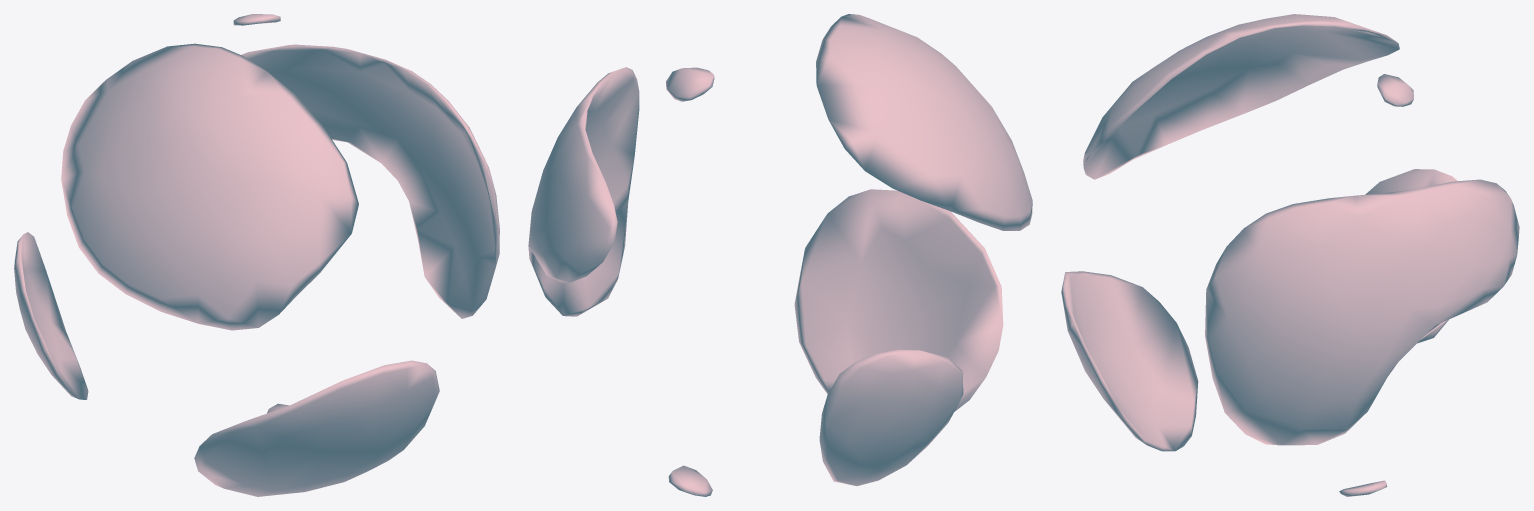
File: Planet_Acc_B_Continents_Low.fbx
The picture shows the model from 3 angles, left to right: view 1: azimuth 30°, elevation 25°; view 2: azimuth 150°, elevation 25°; view 3: azimuth 270°, elevation 25°; orthographic projection. The views are drawn at different scales.
Parts seen in each view (by area): view 1: Big_ContinentsLow; view 2: Big_ContinentsLow; view 3: Big_ContinentsLow.
Part boxes in pixels (bbox=[...]): Big_ContinentsLow: bbox=[14, 14, 499, 496]; Big_ContinentsLow: bbox=[528, 14, 1032, 496]; Big_ContinentsLow: bbox=[1061, 14, 1519, 496].
Bounding box in the file's own units: 2 × 1.99 × 1.93.
